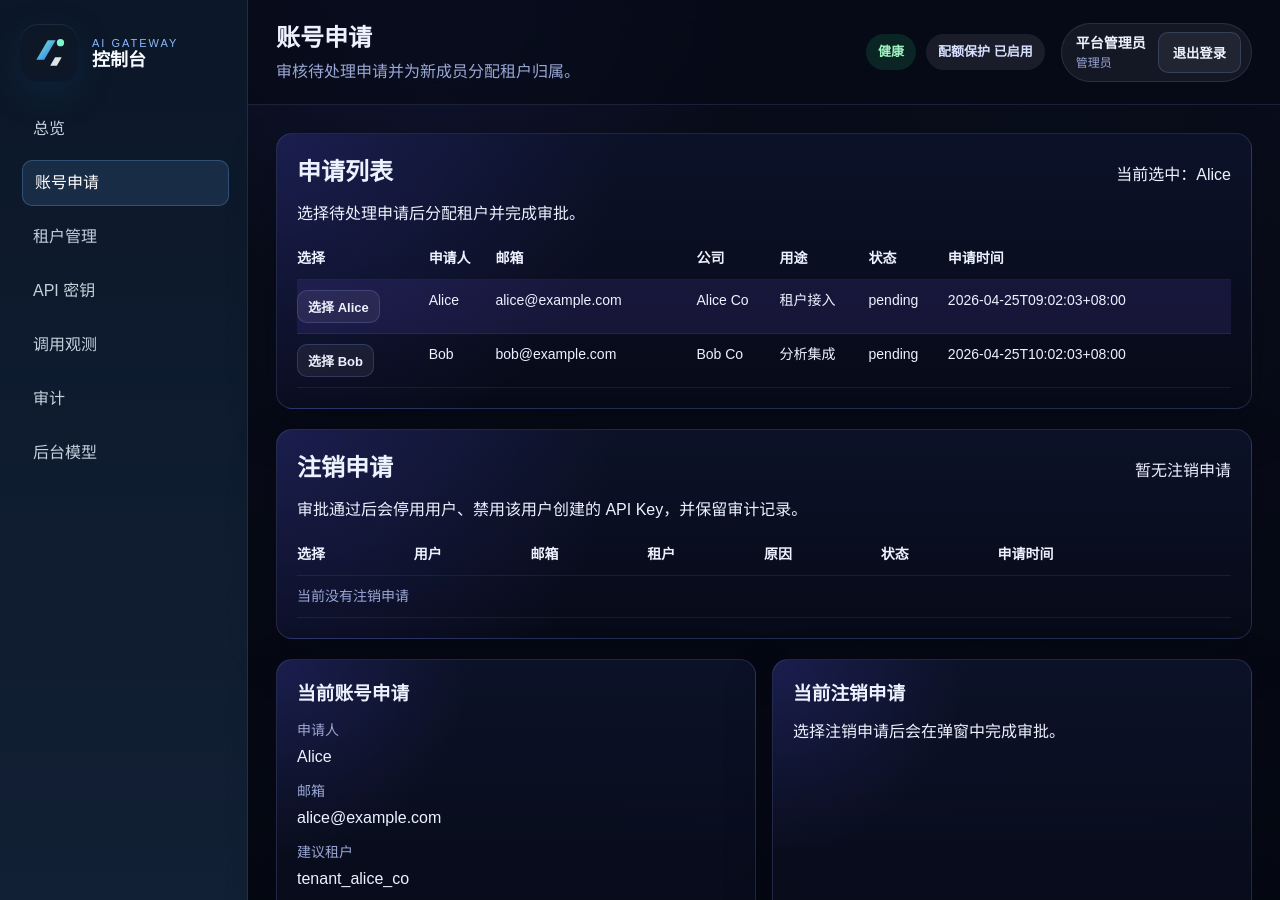
Test: 控制台路由 › 账号申请页重置按钮恢复默认审批表单并清空上一条审批结果
The image size is (1280, 900).
Click the button "选择 Alice" at [338, 306], box left=297, top=290, right=380, bottom=323
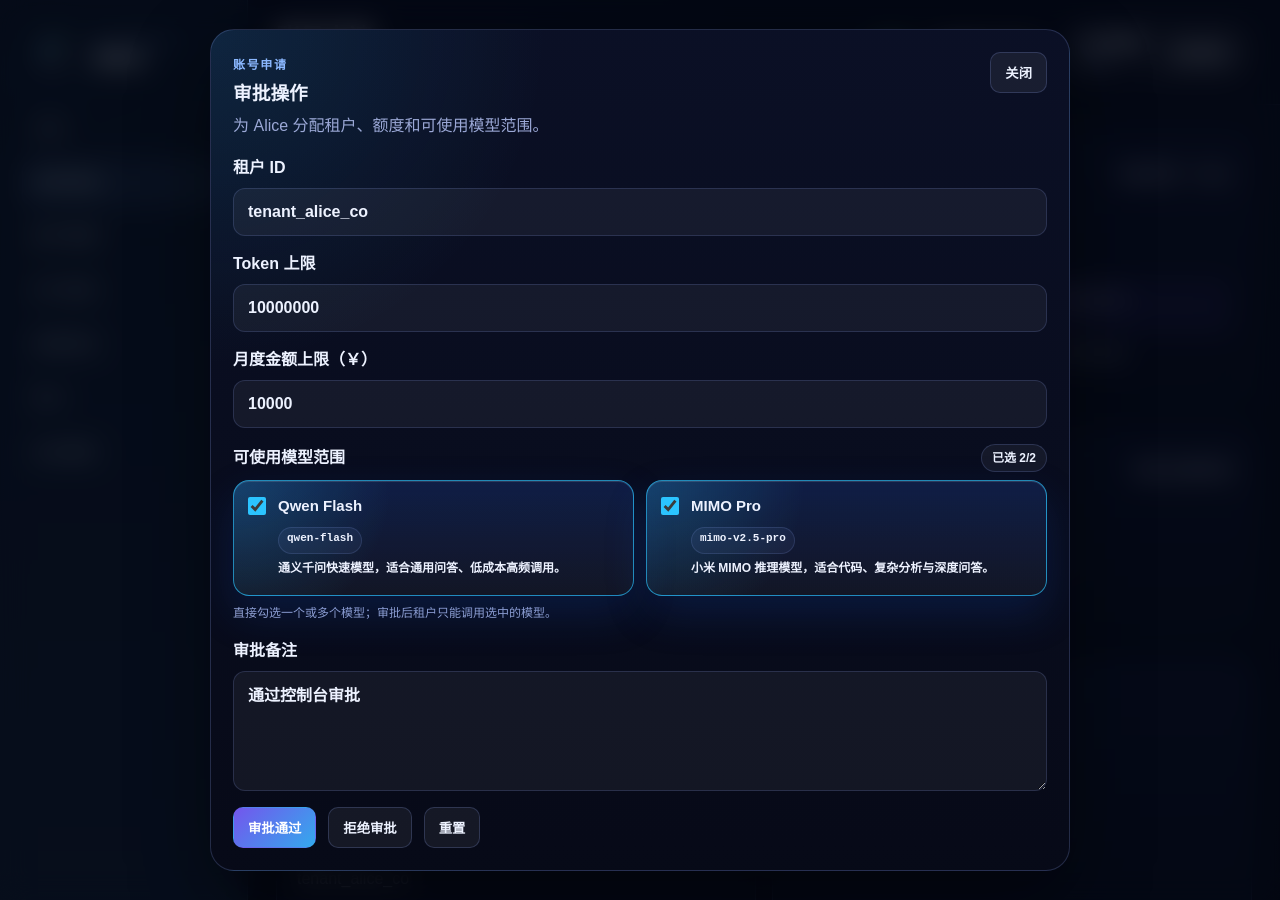
Expected: the dialog "审批操作" is shown
Replace the text in the field labelled "租户 ID" with "tenant_alice" at [640, 212], box left=233, top=188, right=1047, bottom=236
Click the button "审批通过" at [275, 827], box left=233, top=807, right=316, bottom=848
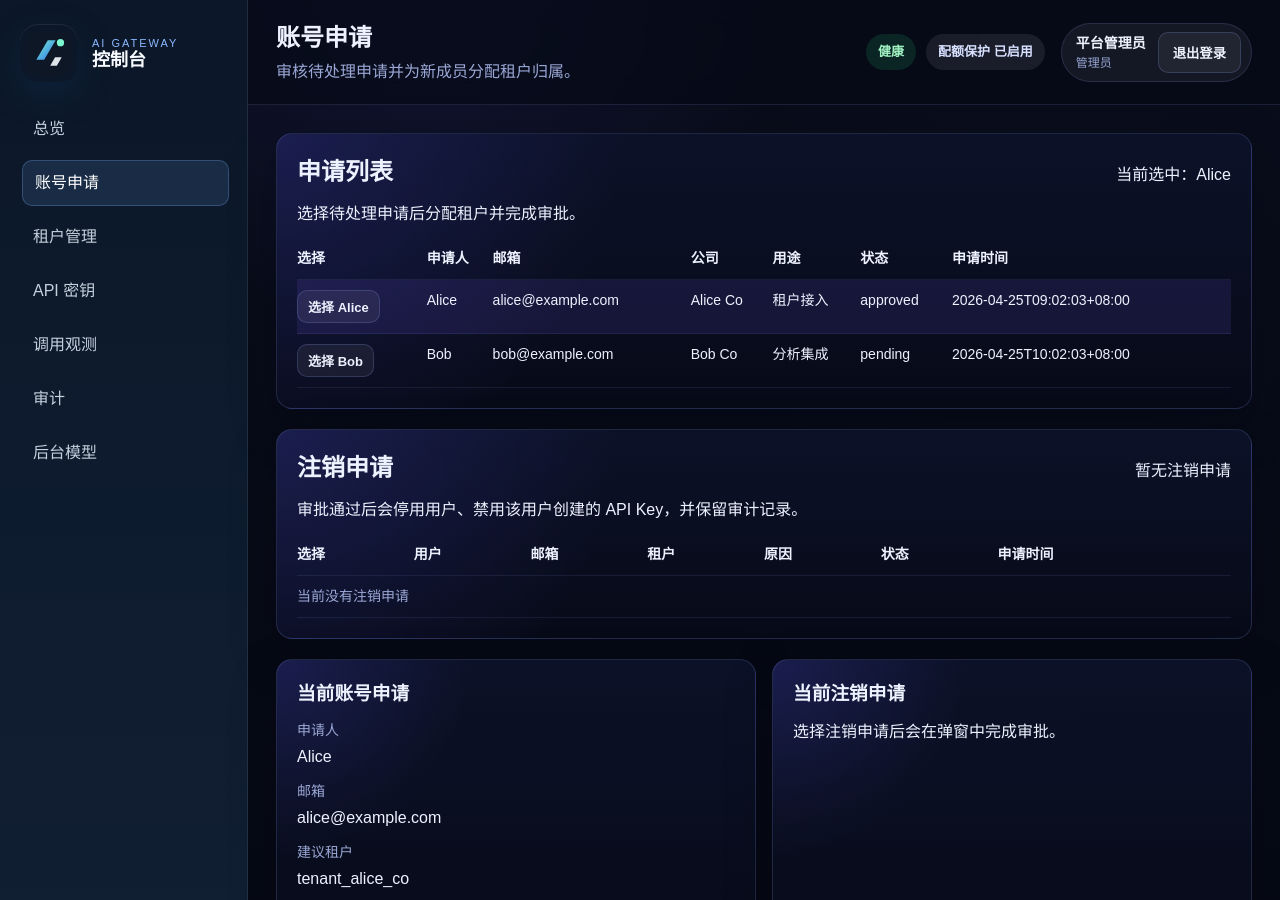
Click the button "选择 Bob" at [335, 360], box left=297, top=344, right=374, bottom=377
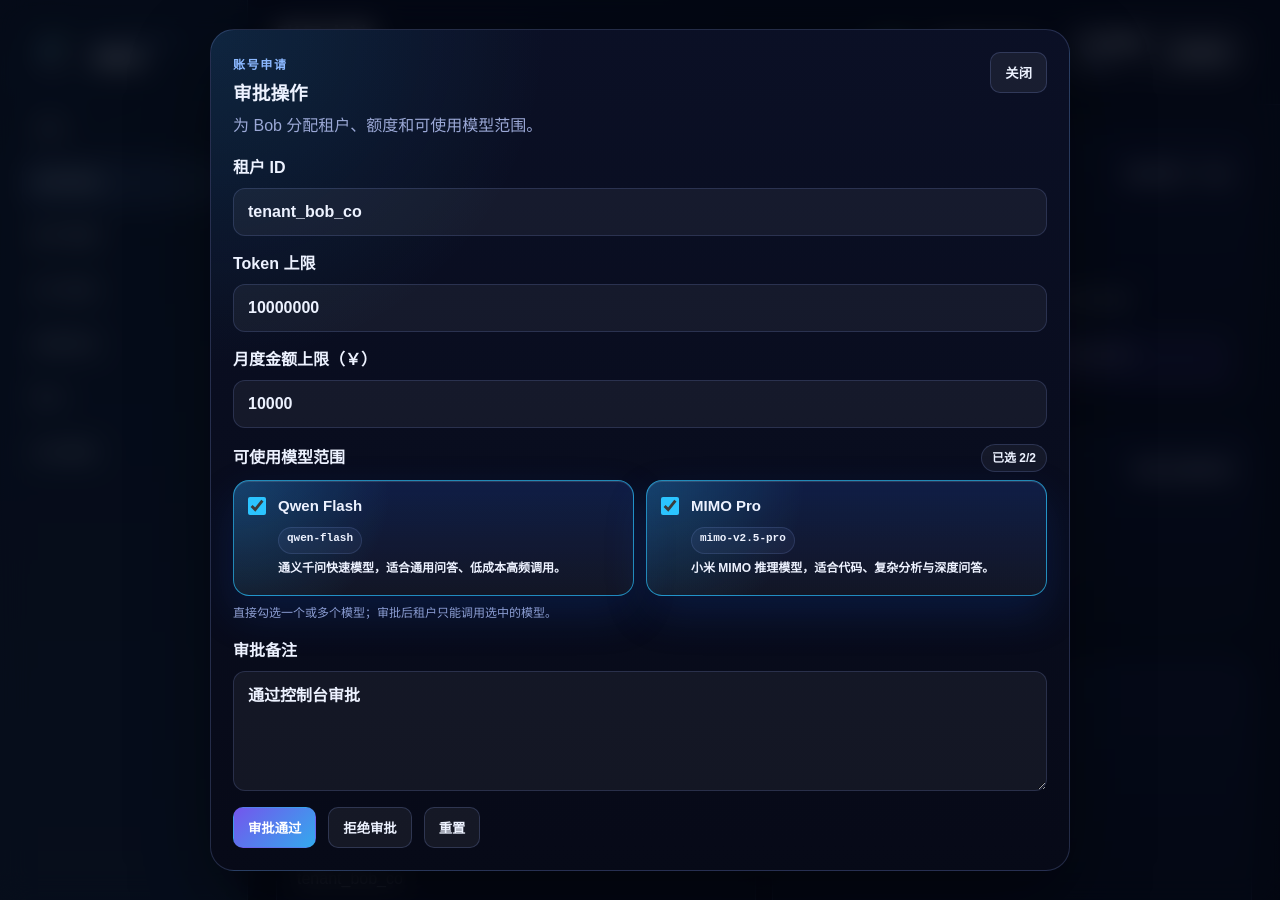
Replace the text in the field labelled "租户 ID" with "tenant_custom_bob" at [640, 212], box left=233, top=188, right=1047, bottom=236
Replace the text in the number field labelled "Token 上限" with "123456" at [640, 308], box left=233, top=284, right=1047, bottom=332
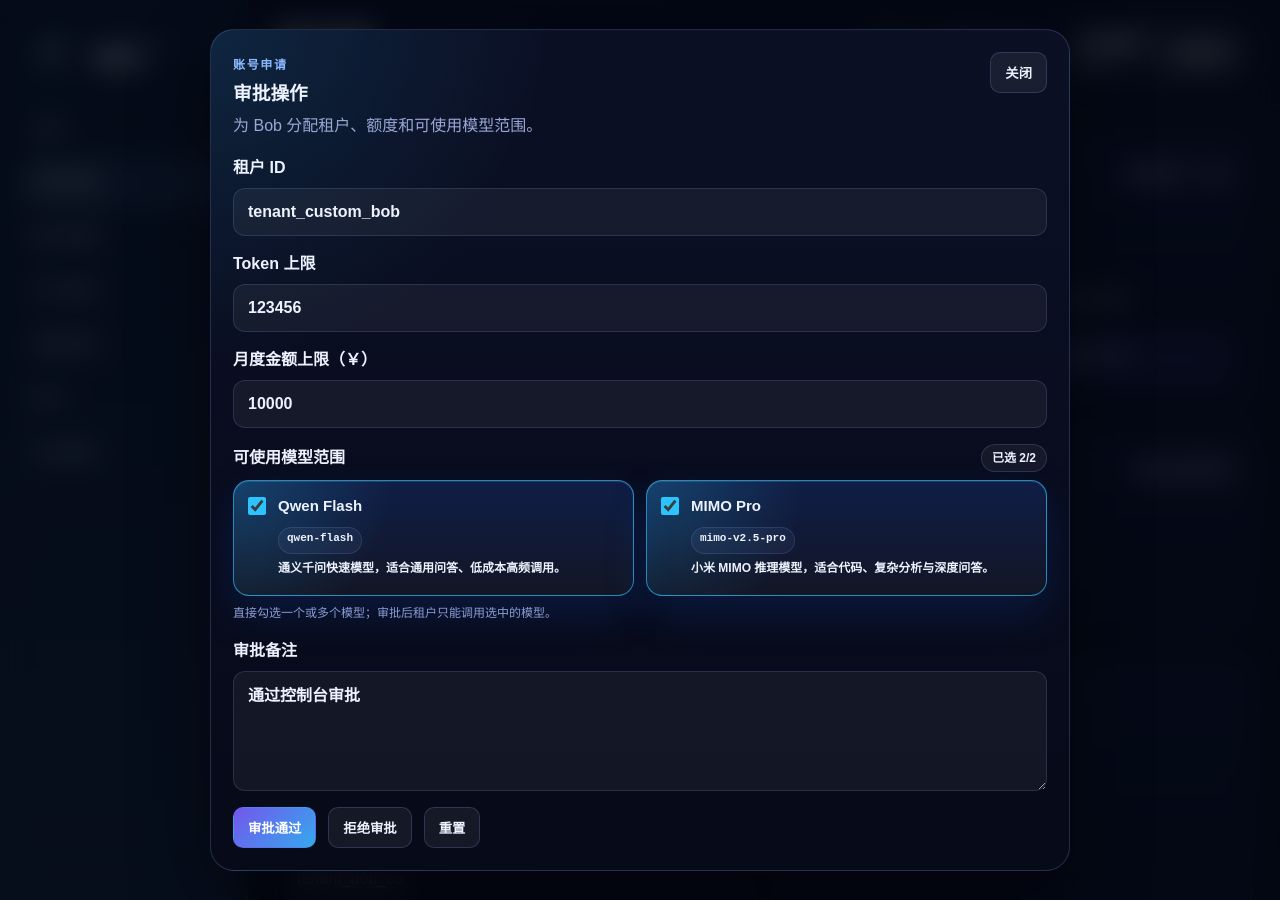
Replace the text in the text box labelled "审批备注" with "自定义备注" at [640, 731], box left=233, top=671, right=1047, bottom=791
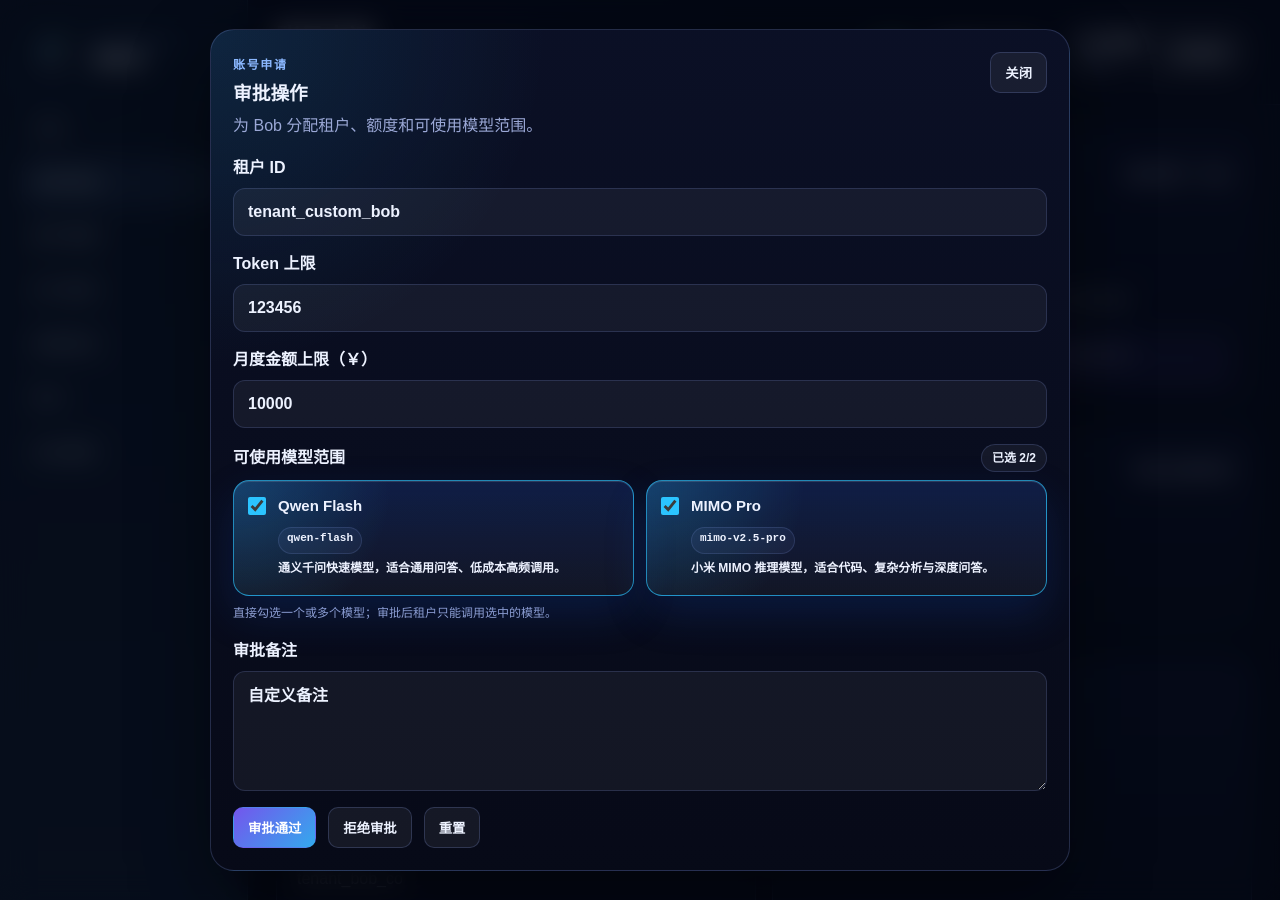
Click the button "重置" at [452, 827], box left=424, top=807, right=480, bottom=848
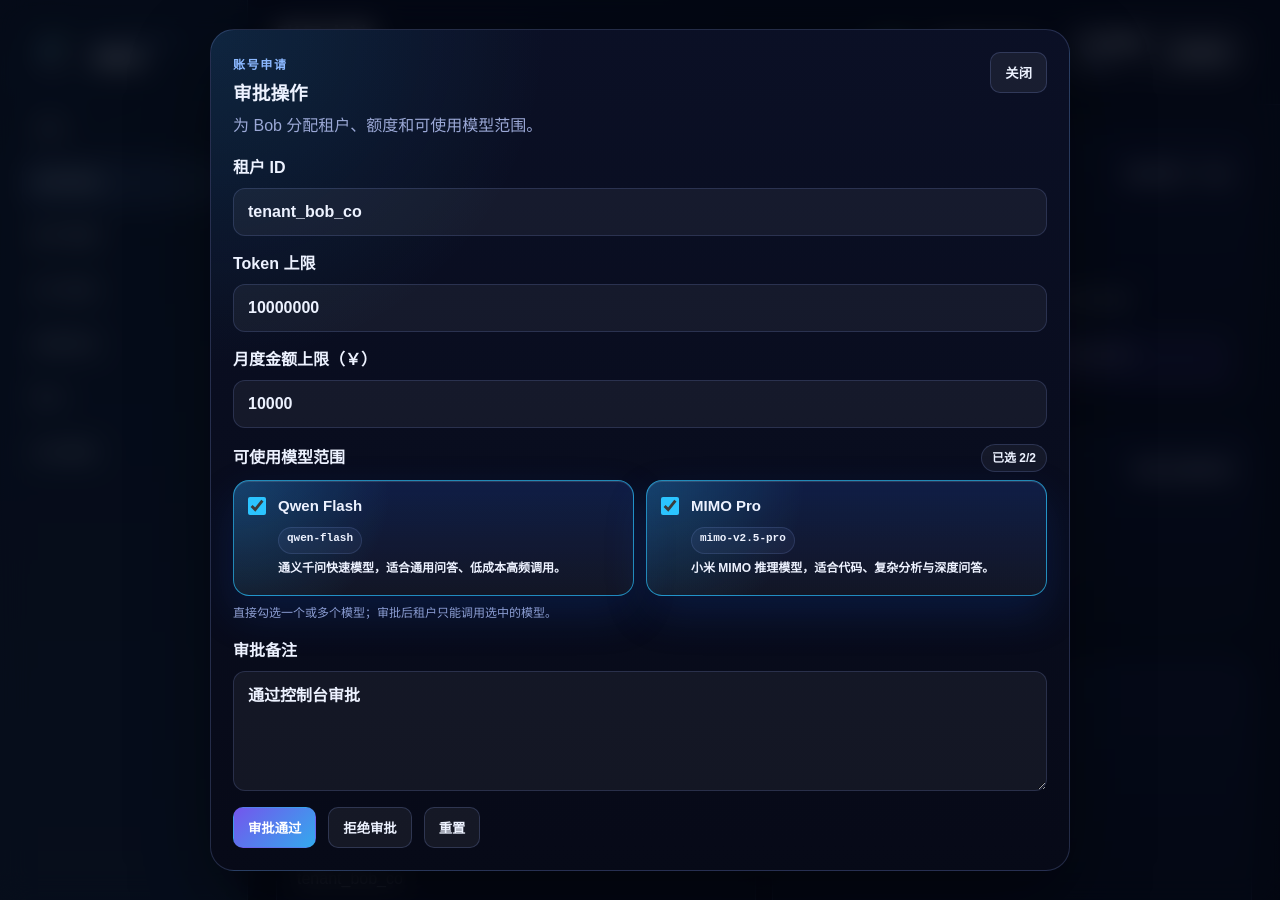
Expected: the field labelled "租户 ID" holds "tenant_bob_co", left=233, top=188, right=1047, bottom=236
Expected: the number field labelled "Token 上限" holds "10000000", left=233, top=284, right=1047, bottom=332
Expected: the text box labelled "审批备注" holds "通过控制台审批", left=233, top=671, right=1047, bottom=791
